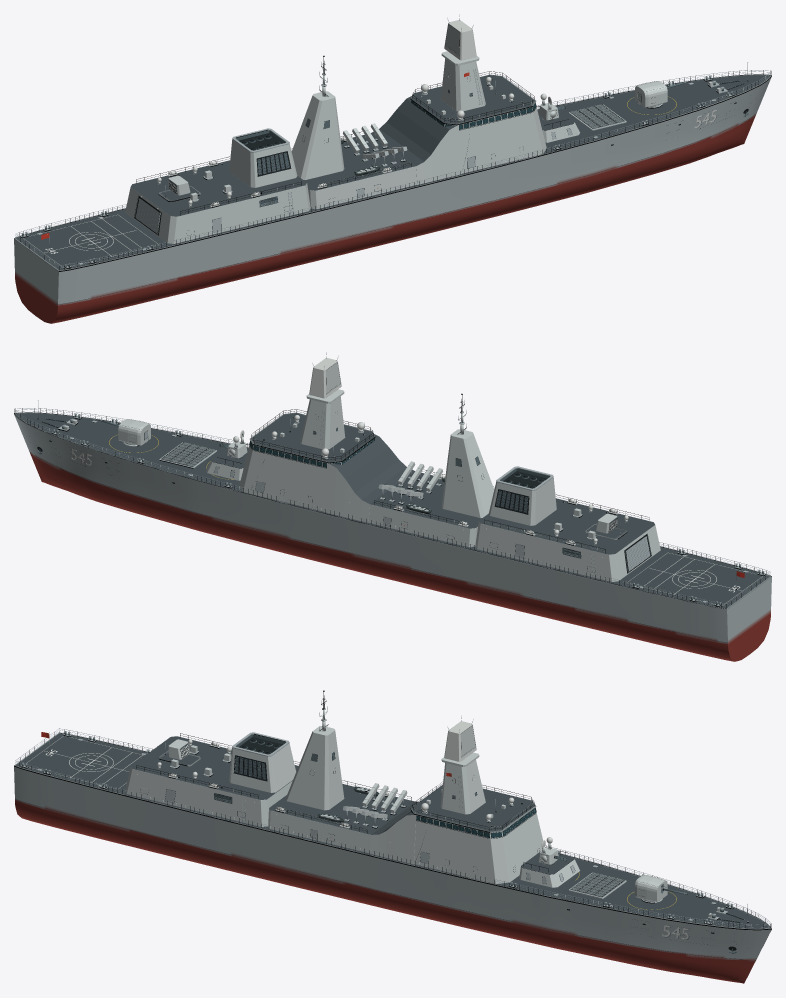
The model's file is shipModelData-luohe.glb.
The picture shows the model from 3 angles, top to bottom: view 1: azimuth 30°, elevation 25°; view 2: azimuth 150°, elevation 25°; view 3: azimuth 330°, elevation 25°; orthographic projection.
Visible parts, largest first — view 1: 船体 | 连续剖面与外飘舰艏, 舷缘 | 浅灰封边 | 上层建筑浅灰, 舰桥 | 弧形尾部过渡, 主甲板 | 连续舰艏至舰尾, 舰桥 | 雨刷 | 钢制构件, 舰桥 | 深灰顶部甲板, 舰艏 | 外板细接缝 | 外板冷灰, 船侧 | 狭小系缆孔 | 深色凹槽, 舰艏 | 存放锚柄 | 设备深灰, 大型雷达 | 圆角矩形双面外壳, 前甲板舱盖 | 单元盖板 | 舱盖中灰, 右舷 | 545舰号白字; view 2: 船体 | 连续剖面与外飘舰艏, 舷缘 | 浅灰封边 | 上层建筑浅灰, 舰桥 | 弧形尾部过渡, 主甲板 | 连续舰艏至舰尾, 舰桥 | 雨刷 | 钢制构件, 舰桥 | 深灰顶部甲板, 舰艏 | 外板细接缝 | 外板冷灰, 船侧 | 狭小系缆孔 | 深色凹槽, 舰艏 | 存放锚柄 | 设备深灰, 大型雷达 | 圆角矩形双面外壳, 前甲板舱盖 | 单元盖板 | 舱盖中灰, 右舷 | 545舰号白字; view 3: 船体 | 连续剖面与外飘舰艏, 舷缘 | 浅灰封边 | 上层建筑浅灰, 舰桥 | 弧形尾部过渡, 主甲板 | 连续舰艏至舰尾, 舰桥 | 深灰顶部甲板, 舰桥 | 雨刷 | 钢制构件, 舰艏 | 外板细接缝 | 外板冷灰, 舰艏 | 存放锚柄 | 设备深灰, 船侧 | 狭小系缆孔 | 深色凹槽, 大型雷达 | 圆角矩形双面外壳, 前甲板舱盖 | 单元盖板 | 舱盖中灰, 右舷 | 545舰号白字 (+2 smaller).
Boxes of the visible parts, left/top/right/bottom form: 船体 | 连续剖面与外飘舰艏: left=14, top=76, right=771, bottom=323; 舷缘 | 浅灰封边 | 上层建筑浅灰: left=14, top=51, right=771, bottom=270; 舰桥 | 弧形尾部过渡: left=125, top=96, right=461, bottom=243; 主甲板 | 连续舰艏至舰尾: left=14, top=74, right=771, bottom=271; 舰桥 | 雨刷 | 钢制构件: left=15, top=14, right=770, bottom=268; 舰桥 | 深灰顶部甲板: left=158, top=74, right=536, bottom=201; 舰艏 | 外板细接缝 | 外板冷灰: left=20, top=25, right=734, bottom=269; 船侧 | 狭小系缆孔 | 深色凹槽: left=39, top=80, right=756, bottom=304; 舰艏 | 存放锚柄 | 设备深灰: left=22, top=46, right=748, bottom=267; 大型雷达 | 圆角矩形双面外壳: left=127, top=20, right=551, bottom=253; 前甲板舱盖 | 单元盖板 | 舱盖中灰: left=570, top=104, right=624, bottom=128; 右舷 | 545舰号白字: left=23, top=109, right=717, bottom=267; 船体 | 连续剖面与外飘舰艏: left=14, top=414, right=771, bottom=661; 舷缘 | 浅灰封边 | 上层建筑浅灰: left=14, top=389, right=771, bottom=608; 舰桥 | 弧形尾部过渡: left=324, top=434, right=660, bottom=581; 主甲板 | 连续舰艏至舰尾: left=14, top=412, right=771, bottom=609; 舰桥 | 雨刷 | 钢制构件: left=15, top=352, right=770, bottom=606; 舰桥 | 深灰顶部甲板: left=249, top=412, right=627, bottom=539; 舰艏 | 外板细接缝 | 外板冷灰: left=51, top=363, right=765, bottom=607; 船侧 | 狭小系缆孔 | 深色凹槽: left=29, top=418, right=746, bottom=642; 舰艏 | 存放锚柄 | 设备深灰: left=37, top=384, right=763, bottom=605; 大型雷达 | 圆角矩形双面外壳: left=233, top=358, right=658, bottom=591; 前甲板舱盖 | 单元盖板 | 舱盖中灰: left=161, top=442, right=215, bottom=466; 右舷 | 545舰号白字: left=70, top=448, right=762, bottom=605; 船体 | 连续剖面与外飘舰艏: left=14, top=766, right=771, bottom=983; 舷缘 | 浅灰封边 | 上层建筑浅灰: left=14, top=692, right=771, bottom=929; 舰桥 | 弧形尾部过渡: left=125, top=736, right=418, bottom=864; 主甲板 | 连续舰艏至舰尾: left=14, top=733, right=771, bottom=930; 舰桥 | 深灰顶部甲板: left=158, top=750, right=536, bottom=832; 舰桥 | 雨刷 | 钢制构件: left=15, top=700, right=770, bottom=927; 舰艏 | 外板细接缝 | 外板冷灰: left=20, top=690, right=748, bottom=948; 舰艏 | 存放锚柄 | 设备深灰: left=22, top=732, right=736, bottom=953; 船侧 | 狭小系缆孔 | 深色凹槽: left=15, top=737, right=743, bottom=959; 大型雷达 | 圆角矩形双面外壳: left=137, top=721, right=552, bottom=848; 前甲板舱盖 | 单元盖板 | 舱盖中灰: left=570, top=873, right=624, bottom=897; 右舷 | 545舰号白字: left=24, top=736, right=688, bottom=939.
Bounding box in the file's own units: 154 × 38.51 × 18.6.
19 materials, 7 textured.
